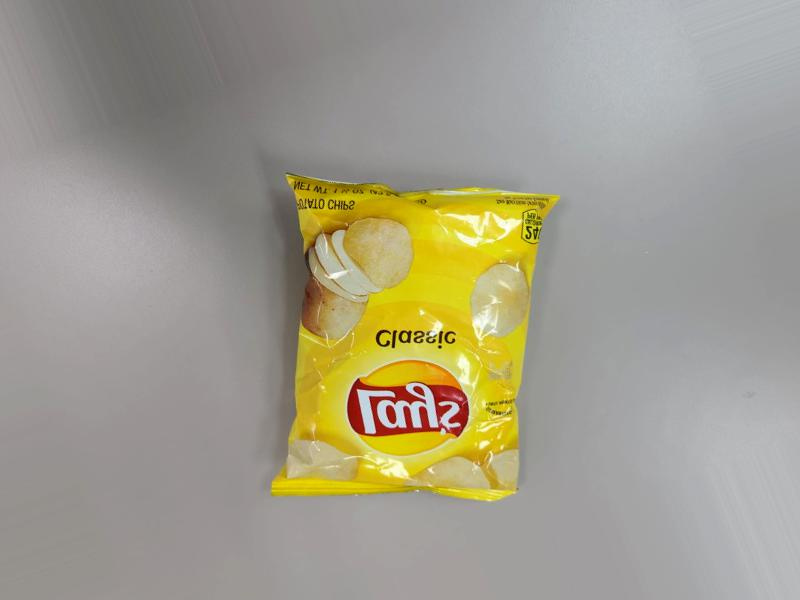lays: (254, 164, 533, 499)
